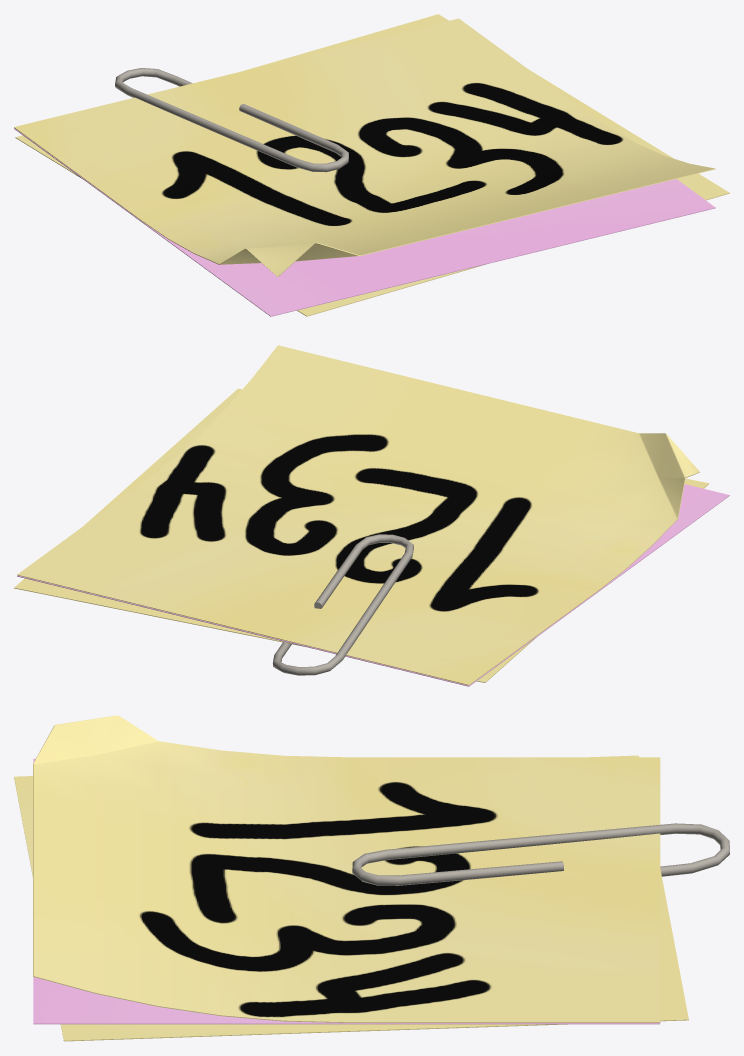
Rendered from note_with_code.glb.
3 renders of one model, top to bottom at view 1: azimuth 30°, elevation 25°; view 2: azimuth 150°, elevation 25°; view 3: azimuth 270°, elevation 25°, orthographic. The views are drawn at different scales.
Parts seen in each view (by area): view 1: Plane.004, Plane.003; view 2: Plane.004, Plane.003; view 3: Plane.004, Plane.003.
Part boxes in pixels (<box>): Plane.004: <box>14,14,729,316</box>; Plane.003: <box>115,68,348,172</box>; Plane.004: <box>14,345,729,686</box>; Plane.003: <box>273,534,413,675</box>; Plane.004: <box>14,715,688,1041</box>; Plane.003: <box>352,823,729,885</box>.
Size of the model in its own units: 4.03 by 0.5173 by 4.27.
1 material, 1 textured.
